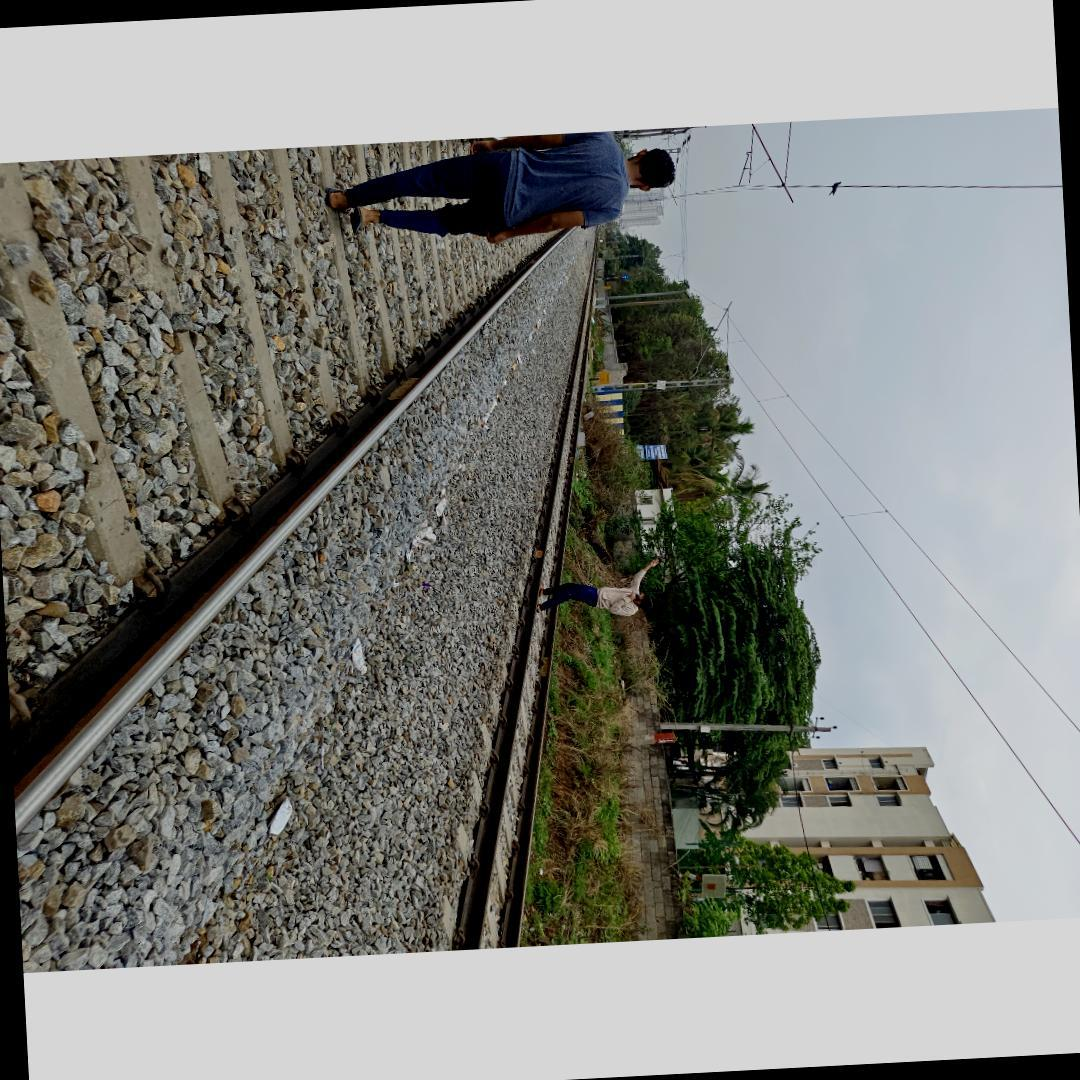standing: (322, 128, 679, 255), (532, 556, 662, 623)
track: (9, 225, 585, 853), (439, 227, 600, 951)
